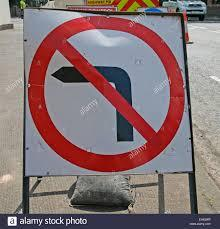no_left_turn: (26, 15, 184, 171)
